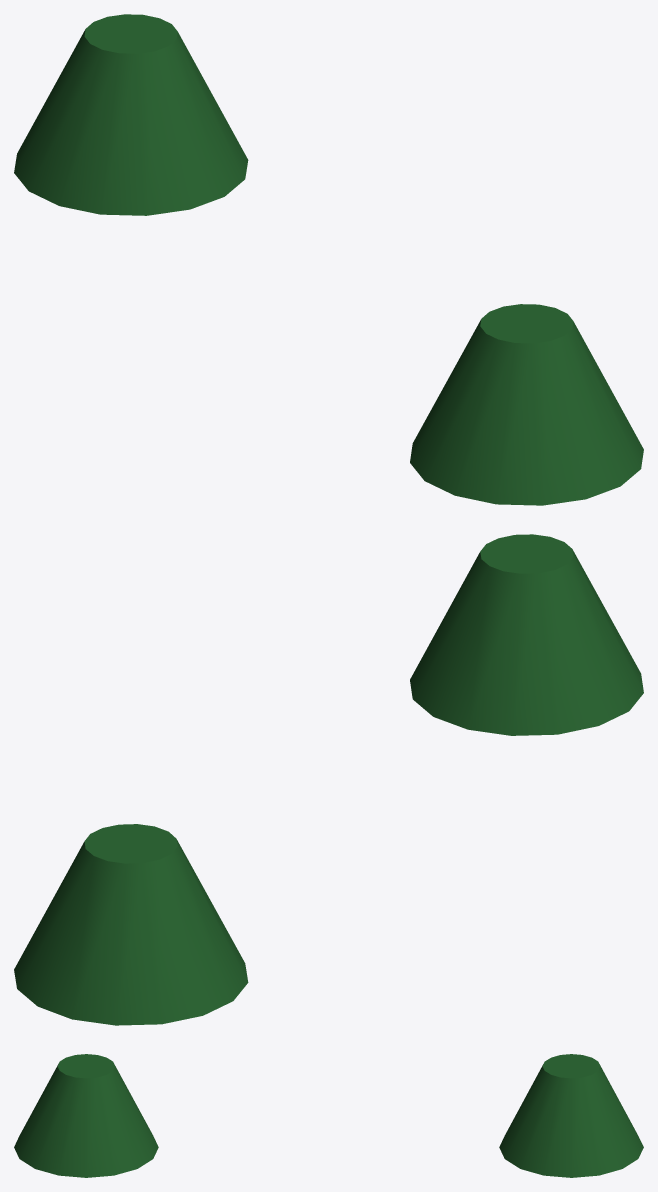
Rendered from kitchen-lampshade_outside.obj.
The picture shows the model from 3 angles, top to bottom: view 1: azimuth 30°, elevation 25°; view 2: azimuth 150°, elevation 25°; view 3: azimuth 270°, elevation 25°; orthographic projection. The views are drawn at different scales.
Visible parts, largest first — view 1: spotlamp_Cylinder.037, spotlamp.001_Cylinder.037; view 2: spotlamp.001_Cylinder.037, spotlamp_Cylinder.037; view 3: spotlamp.001_Cylinder.037, spotlamp_Cylinder.037.
Boxes of the visible parts, x1=… form: spotlamp_Cylinder.037: x1=14, y1=14, x2=248, y2=215; spotlamp.001_Cylinder.037: x1=410, y1=304, x2=643, y2=505; spotlamp.001_Cylinder.037: x1=410, y1=534, x2=643, y2=735; spotlamp_Cylinder.037: x1=14, y1=824, x2=248, y2=1025; spotlamp.001_Cylinder.037: x1=14, y1=1054, x2=158, y2=1177; spotlamp_Cylinder.037: x1=499, y1=1054, x2=643, y2=1177.
Bounding box in the file's own units: 0.582 × 0.36 × 2.53.
1 material, 1 textured.
